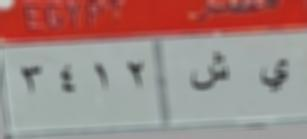1: (92, 55, 112, 94)
2: (118, 56, 154, 84)
3: (17, 60, 44, 96)
4: (49, 57, 84, 107)
sheen: (187, 49, 233, 98)
yaa: (248, 55, 295, 97)
